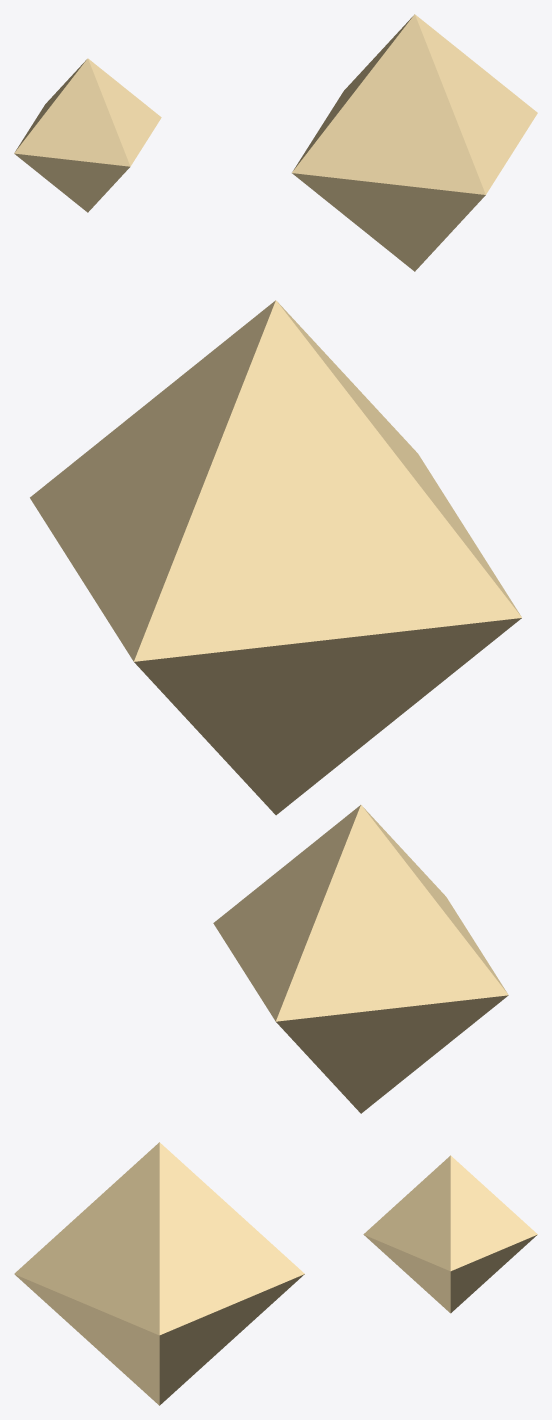
Rendered from external.gltf.
3 renders of one model, top to bottom at view 1: azimuth 30°, elevation 25°; view 2: azimuth 150°, elevation 25°; view 3: azimuth 270°, elevation 25°, orthographic. The views are drawn at different scales.
Visible parts, largest first — view 1: imported crystal, shared crystal; view 2: imported crystal, shared crystal; view 3: imported crystal, shared crystal.
Part boxes in pixels (x1,y1,x2,y2): imported crystal: (292,14,537,271); shared crystal: (14,58,161,212); imported crystal: (30,300,521,815); shared crystal: (213,805,508,1113); imported crystal: (14,1142,304,1405); shared crystal: (363,1155,537,1313).
Size of the model in its own units: 3.1 by 2 by 3.6.
